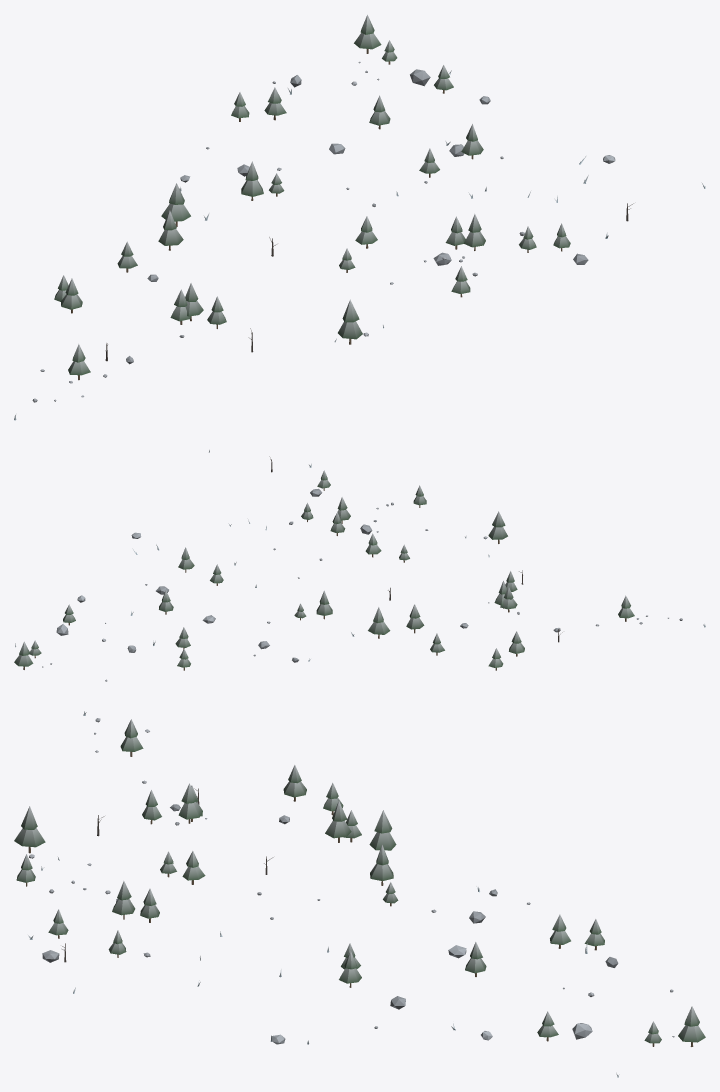
The model's file is frost_land_scatter_c18_11_lod1.glb.
The picture shows the model from 3 angles, top to bottom: view 1: azimuth 30°, elevation 25°; view 2: azimuth 150°, elevation 25°; view 3: azimuth 270°, elevation 25°; orthographic projection. The views are drawn at different scales.
Visible parts, largest first — view 1: frost_land_scatter_c18_11_lod1; view 2: frost_land_scatter_c18_11_lod1; view 3: frost_land_scatter_c18_11_lod1.
Part boxes in pixels (x1,y1,x2,y2): frost_land_scatter_c18_11_lod1: (14, 14, 705, 420); frost_land_scatter_c18_11_lod1: (14, 450, 705, 681); frost_land_scatter_c18_11_lod1: (14, 711, 705, 1077).
Bounding box in the file's own units: 231 × 29.79 × 190.
